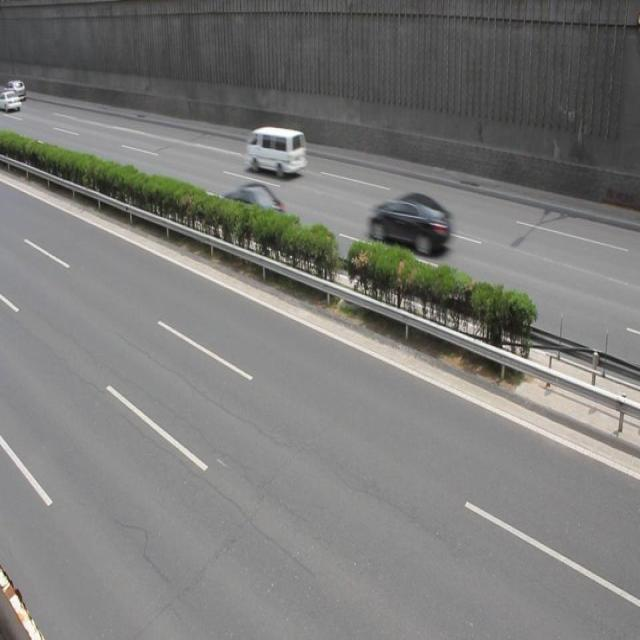car: (366, 190, 449, 256), (221, 181, 285, 236)
truck: (245, 128, 308, 178)
